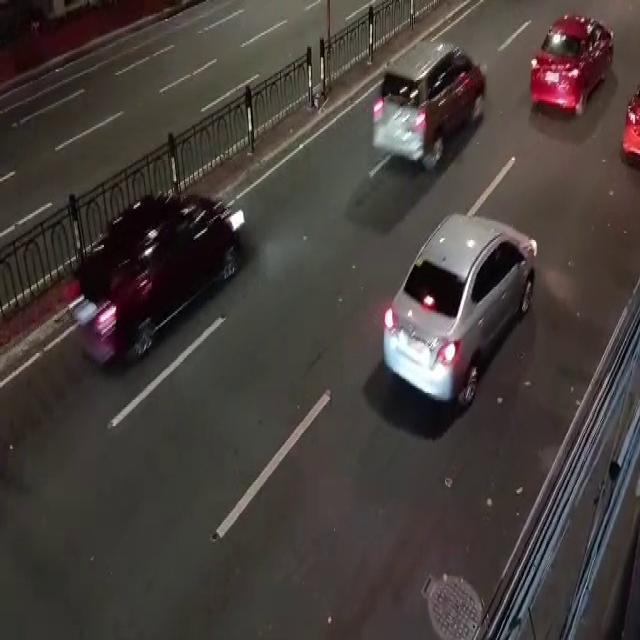car: (74, 194, 234, 376), (392, 222, 533, 404), (369, 36, 492, 166), (528, 12, 611, 122)
